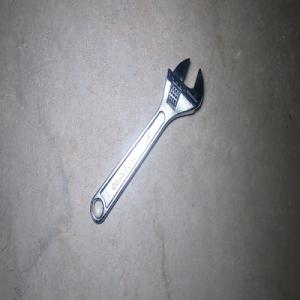Wrench: (89, 57, 203, 223)
